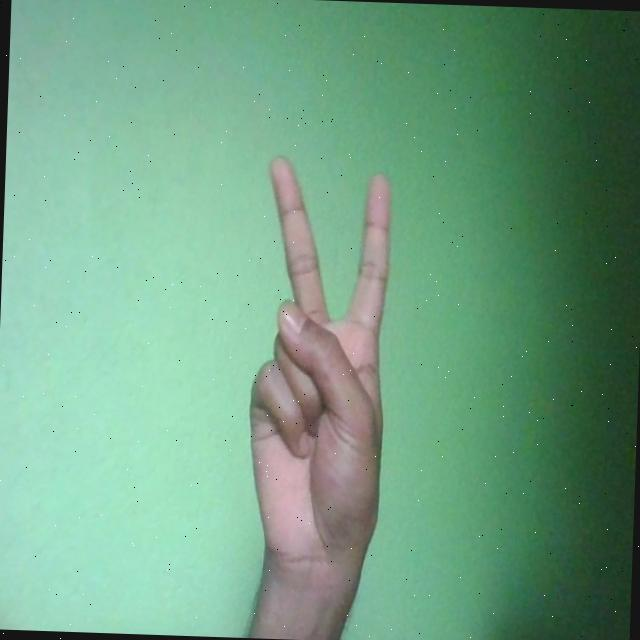Fist: (243, 157, 394, 574)
